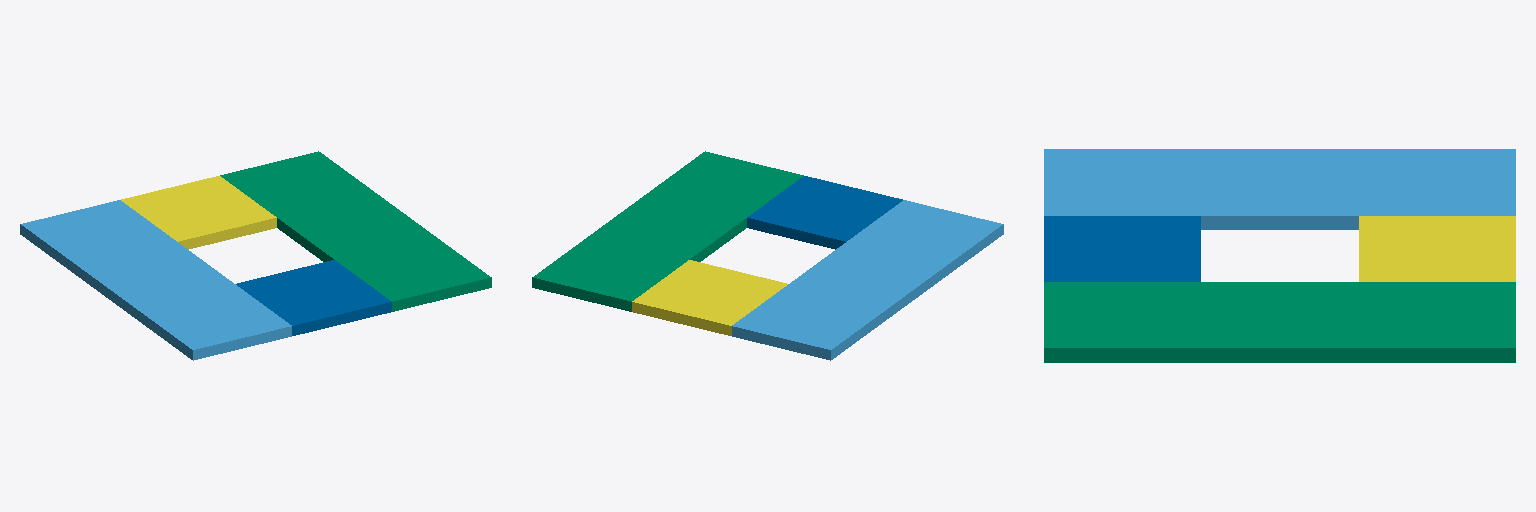
The robot description file, URDF, robot "ground_skeleton":
<?xml version="1.0"?>
<robot name="ground_skeleton">
    <link name="world" />
    <link name="left">
        <inertial>
            <mass value="1.0" />
            <origin xyz="0 0 0" rpy="0 0 0" />
            <inertia ixx="1.0" ixy="0" ixz="0" iyy="1.0" iyz="0" izz="1.0" />
        </inertial>
        <visual>
            <origin xyz="0 0 0" rpy="0 -0 0" />
            <geometry>
                <box size="5 15 0.5" />
                <mesh filename="ring.STL" scale="1 1 1" />
            </geometry>
        </visual>
        <collision group="default">
            <origin xyz="0 0 0" rpy="0 -0 0" />
            <geometry>
                <box size="5 15 0.5" />
                <!-- <mesh filename="ring.STL" scale="1 1 1" /> -->
            </geometry>
        </collision>
    </link>
    <link name="right">
        <inertial>
            <mass value="1.0" />
            <origin xyz="0 0 0" rpy="0 0 0" />
            <inertia ixx="1.0" ixy="0" ixz="0" iyy="1.0" iyz="0" izz="1.0" />
        </inertial>
        <visual>
            <origin xyz="0 0 0" rpy="0 -0 0" />
            <geometry>
                <box size="5 15 0.5" />
            </geometry>
        </visual>
        <collision group="default">
            <origin xyz="0 0 0" rpy="0 -0 0" />
            <geometry>
                <box size="5 15 0.5" />
            </geometry>
        </collision>
    </link>
    <link name="top">
        <inertial>
            <mass value="1.0" />
            <origin xyz="0 0 0" rpy="0 0 0" />
            <inertia ixx="1.0" ixy="0" ixz="0" iyy="1.0" iyz="0" izz="1.0" />
        </inertial>
        <visual>
            <origin xyz="0 0 0" rpy="0 -0 0" />
            <geometry>
                <box size="5 5 0.5" />
            </geometry>
        </visual>
        <collision group="default">
            <origin xyz="0 0 0" rpy="0 -0 0" />
            <geometry>
                <box size="5 5 0.5" />
            </geometry>
        </collision>
    </link>
    <link name="bottom">
        <inertial>
            <mass value="1.0" />
            <origin xyz="0 0 0" rpy="0 0 0" />
            <inertia ixx="1.0" ixy="0" ixz="0" iyy="1.0" iyz="0" izz="1.0" />
        </inertial>
        <visual>
            <origin xyz="0 0 0" rpy="0 -0 0" />
            <geometry>
                <box size="5 5 0.5" />
            </geometry>
        </visual>
        <collision group="default">
            <origin xyz="0 0 0" rpy="0 -0 0" />
            <geometry>
                <box size="5 5 0.5" />
            </geometry>
        </collision>
    </link>
    <joint name="world_bottom" type="fixed">
        <origin xyz="0 0 5" rpy="0 0 0" />
        <parent link="world" />
        <child link="bottom" />
    </joint>
    <joint name="bottom_left" type="fixed">
        <origin xyz="-5 5 0" rpy="0 0 0" />
        <parent link="bottom" />
        <child link="left" />
    </joint>
    <joint name="bottom_right" type="fixed">
        <origin xyz="5 5 0" rpy="0 0 0" />
        <parent link="bottom" />
        <child link="right" />
    </joint>
    <joint name="bottom_top" type="fixed">
        <origin xyz="0 10 0" rpy="0 0 0" />
        <parent link="bottom" />
        <child link="top" />
    </joint>
</robot>

--- Facts derived from the render (not from the file) ---
3 views of the same robot in one strip: view 1: azimuth 30°, elevation 25°; view 2: azimuth 150°, elevation 25°; view 3: azimuth 270°, elevation 25° (orthographic).
Robot: ground_skeleton — 5 links, 4 joints (4 fixed); root link world; default pose: every joint at zero.
Visible links, largest first — view 1: left, right, bottom, top; view 2: left, right, top, bottom; view 3: right, left, top, bottom.
Boxes of the visible links, x1=… form: left: x1=20, y1=200, x2=291, y2=360; right: x1=220, y1=151, x2=491, y2=311; bottom: x1=236, y1=260, x2=391, y2=335; top: x1=121, y1=176, x2=276, y2=249; left: x1=732, y1=200, x2=1003, y2=360; right: x1=532, y1=151, x2=803, y2=311; top: x1=632, y1=260, x2=787, y2=335; bottom: x1=747, y1=176, x2=902, y2=249; right: x1=1044, y1=282, x2=1515, y2=362; left: x1=1044, y1=149, x2=1515, y2=229; top: x1=1359, y1=216, x2=1515, y2=281; bottom: x1=1044, y1=216, x2=1200, y2=281.
Bounding box of the posed robot: 15 × 15 × 0.5 m (x, y, z).
Geometry: primitives only (box / cylinder / sphere), no mesh files.